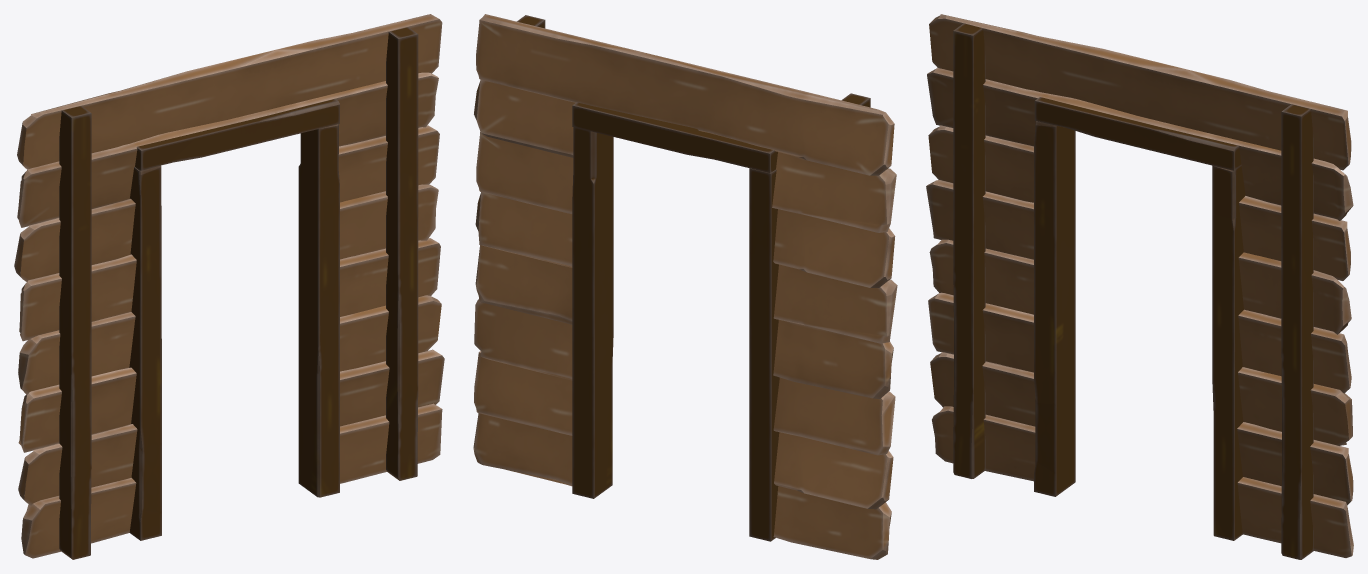
The model's file is WoodWallDoor.fbx.
3 renders of one model, left to right at view 1: azimuth 30°, elevation 25°; view 2: azimuth 150°, elevation 25°; view 3: azimuth 330°, elevation 25°, orthographic.
Parts seen in each view (by area): view 1: WoodWall.002; view 2: WoodWall.002; view 3: WoodWall.002.
Boxes of the visible parts, <box> form: WoodWall.002: <box>14,14,444,559</box>; WoodWall.002: <box>473,14,897,559</box>; WoodWall.002: <box>926,14,1353,559</box>.
Bounding box in the file's own units: 98.47 × 101 × 10.43.
Materials: 1 (1 with a texture image).
